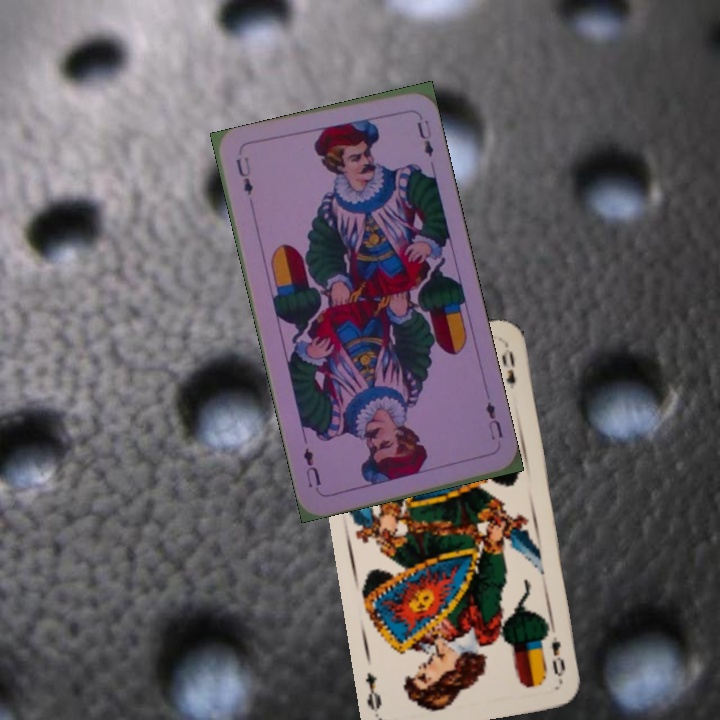EO: (547, 632, 568, 679)
EU: (231, 152, 256, 198), (482, 398, 506, 443)
